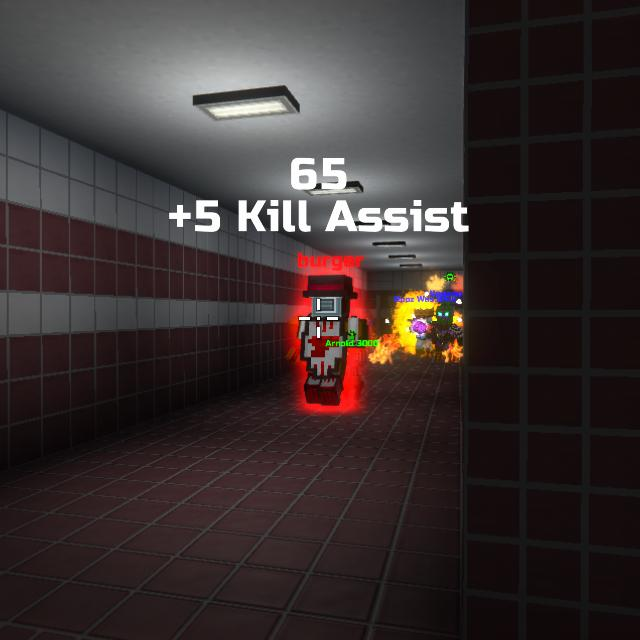Enemy: (296, 274, 369, 406)
